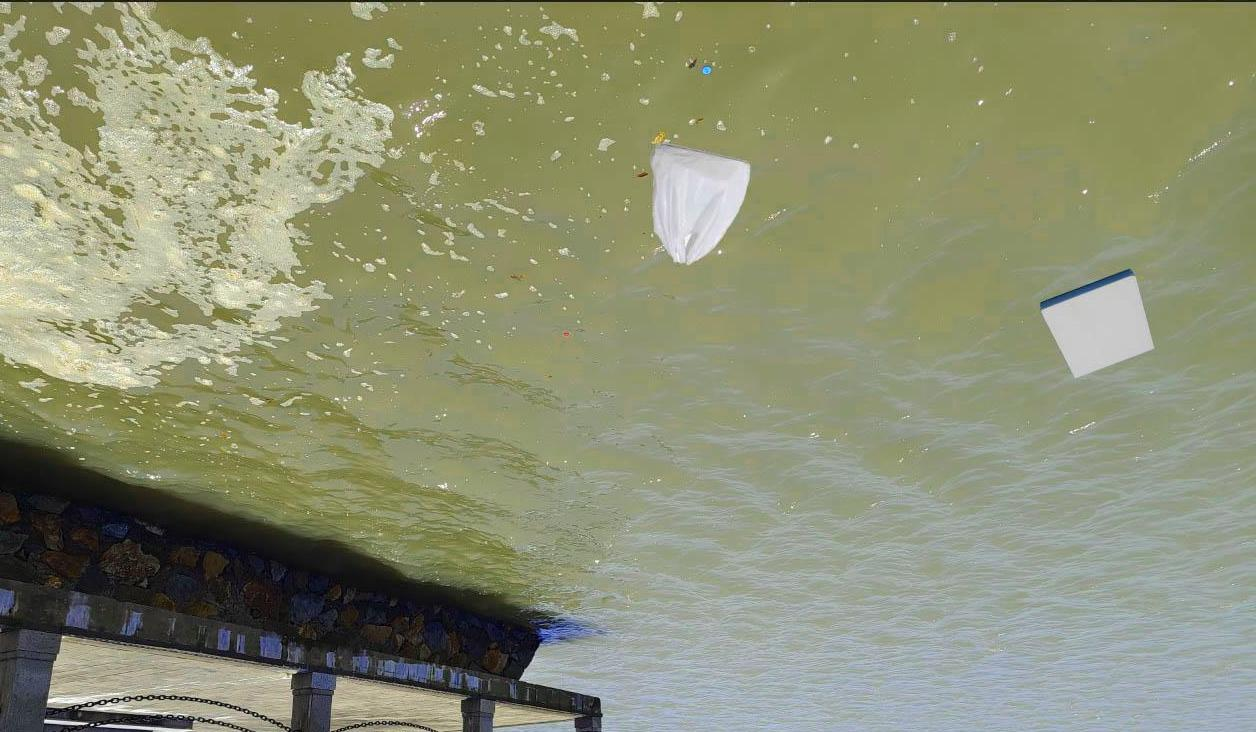Trash: (647, 147, 751, 270)
